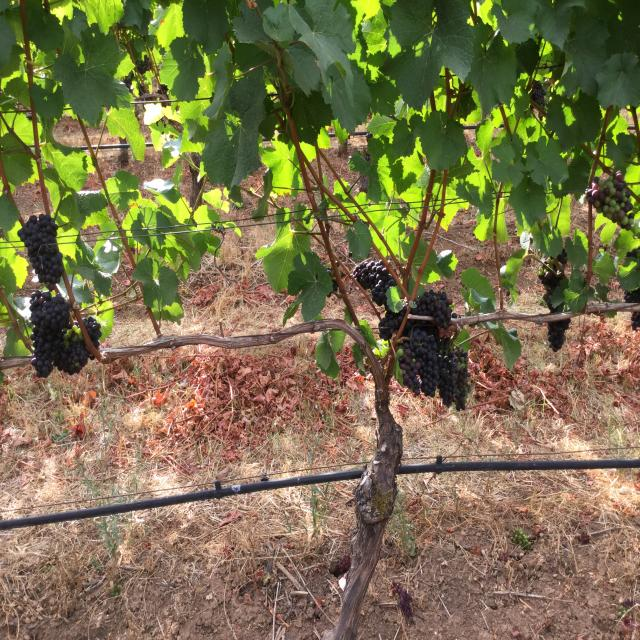grapes: (399, 322, 470, 410), (18, 213, 64, 290), (30, 290, 70, 378), (402, 290, 451, 335), (352, 260, 396, 305), (55, 325, 90, 375), (379, 307, 408, 340), (84, 317, 101, 348)
